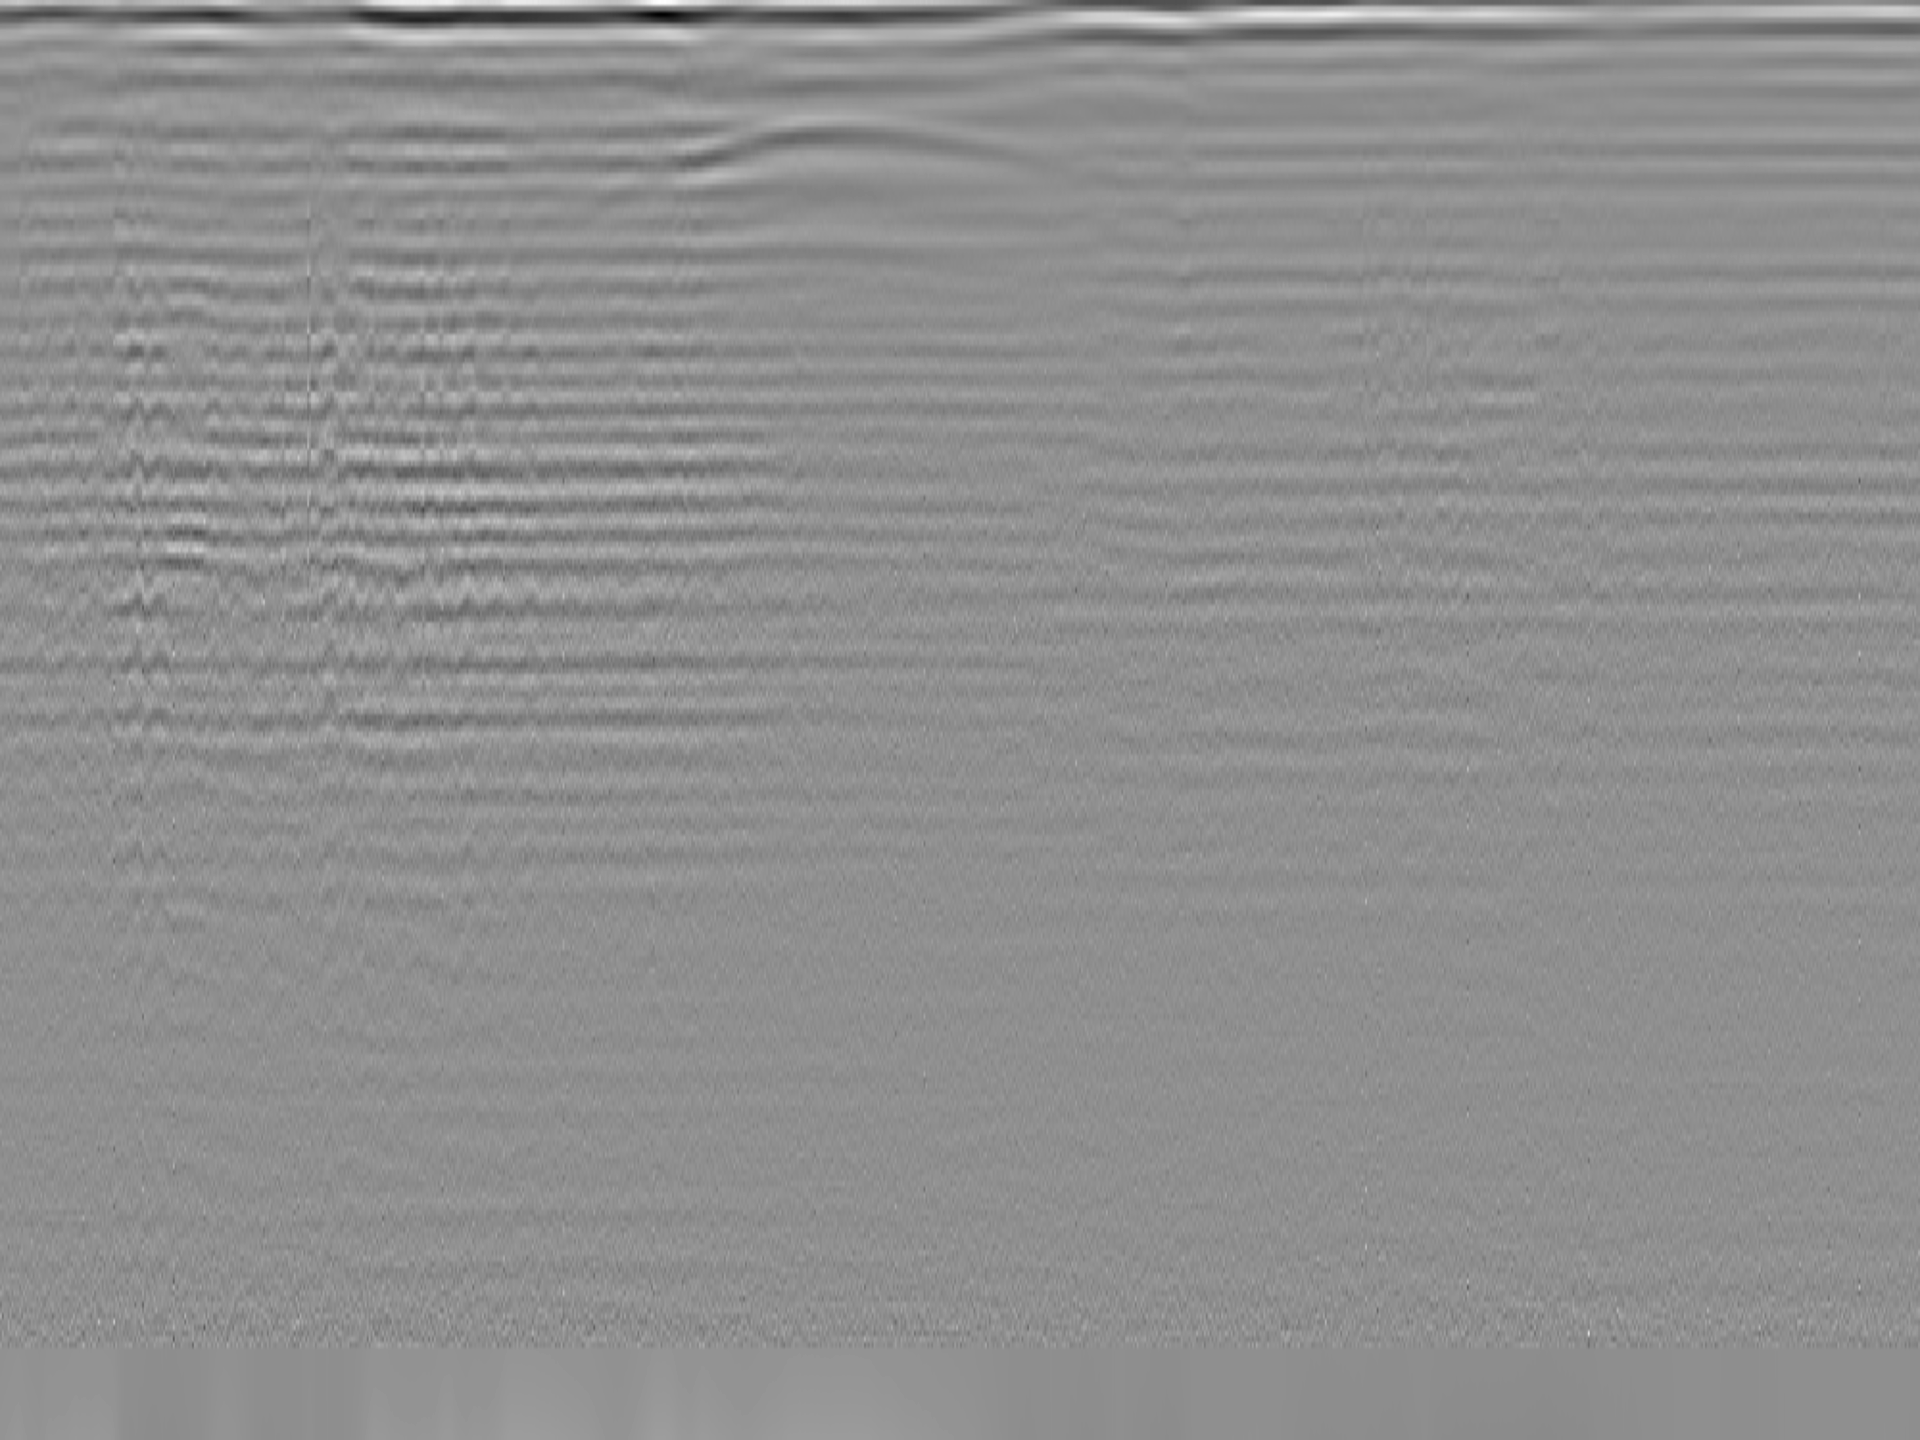Tunnel: (652, 112, 1084, 175)
